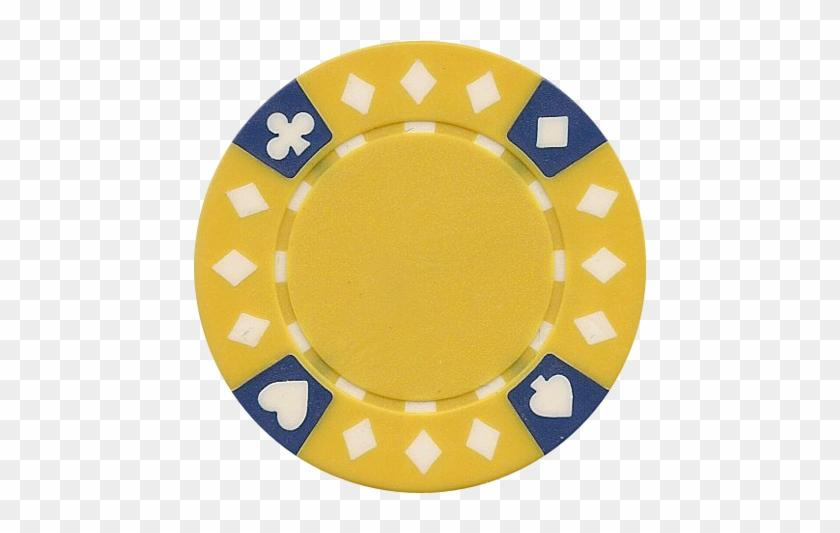chip-yellow: (195, 43, 645, 492)
